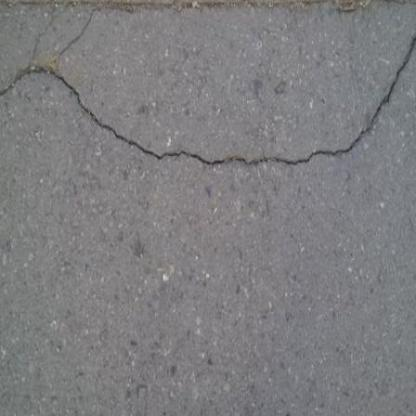Cracks: (0, 35, 416, 177), (33, 7, 110, 69), (26, 6, 61, 74)
